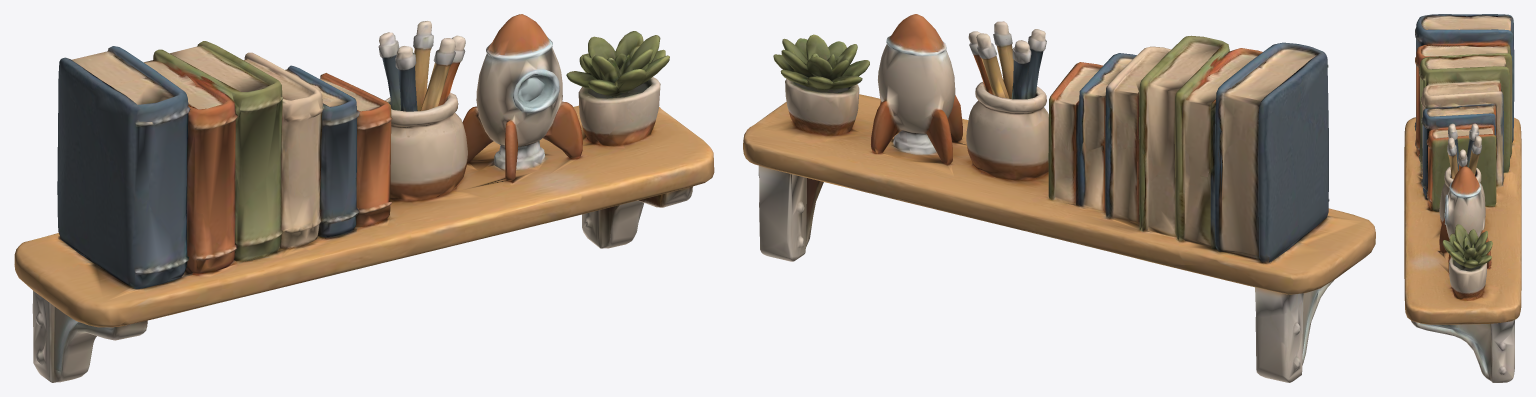
File: wall-shelf.medium.glb
3 views of the same model, side by side, from view 1: azimuth 30°, elevation 25°; view 2: azimuth 150°, elevation 25°; view 3: azimuth 270°, elevation 25° (orthographic). The views are drawn at different scales.
Parts seen in each view (by area): view 1: tripo_node_611b1420-b976-47e4-8e1a-0d7e6fac6155; view 2: tripo_node_611b1420-b976-47e4-8e1a-0d7e6fac6155; view 3: tripo_node_611b1420-b976-47e4-8e1a-0d7e6fac6155.
Part boxes in pixels (x1,y1,x2,y2): tripo_node_611b1420-b976-47e4-8e1a-0d7e6fac6155: [14, 14, 714, 382]; tripo_node_611b1420-b976-47e4-8e1a-0d7e6fac6155: [743, 14, 1375, 382]; tripo_node_611b1420-b976-47e4-8e1a-0d7e6fac6155: [1404, 14, 1521, 382].
Size of the model in its own units: 1.2 by 0.5594 by 0.3.
Materials: 1 (1 with a texture image).
